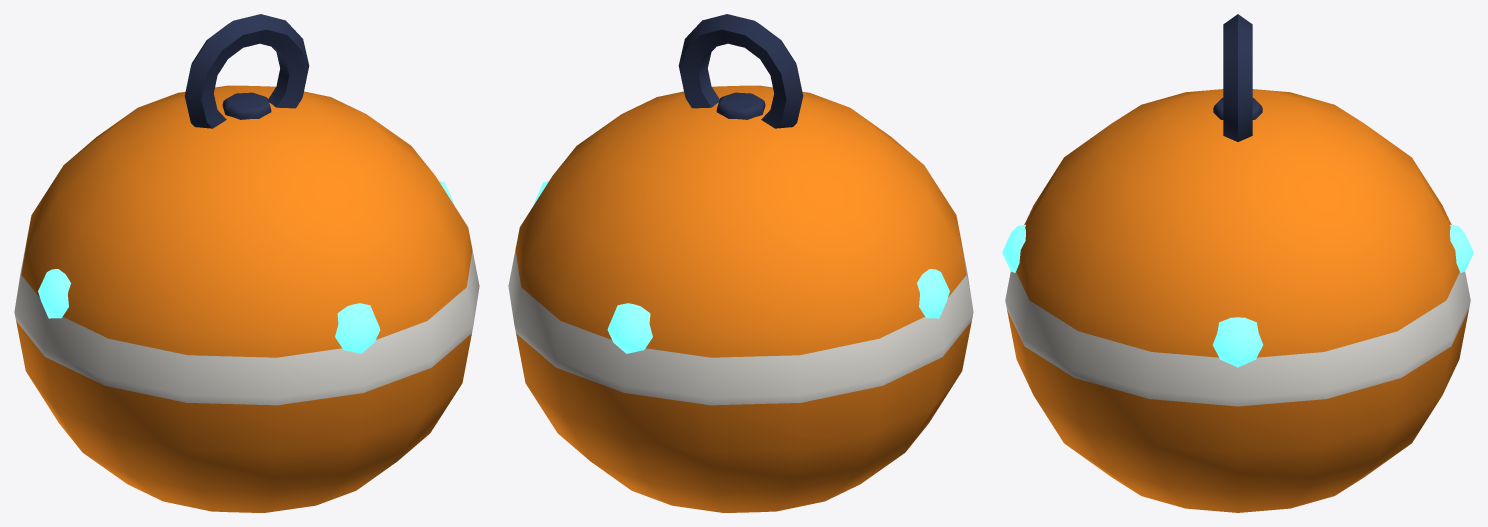
File: W1_Buoy_B.fbx
The picture shows the model from 3 angles, left to right: view 1: azimuth 30°, elevation 25°; view 2: azimuth 150°, elevation 25°; view 3: azimuth 270°, elevation 25°; orthographic projection.
Parts seen in each view (by area): view 1: W1_Buoy_B; view 2: W1_Buoy_B; view 3: W1_Buoy_B.
Boxes of the visible parts, box(x1,y1,x2,y2) form: W1_Buoy_B: box(14, 14, 479, 512); W1_Buoy_B: box(508, 14, 973, 512); W1_Buoy_B: box(1002, 14, 1473, 512).
Bounding box in the file's own units: 1.52 × 1.67 × 1.52.
